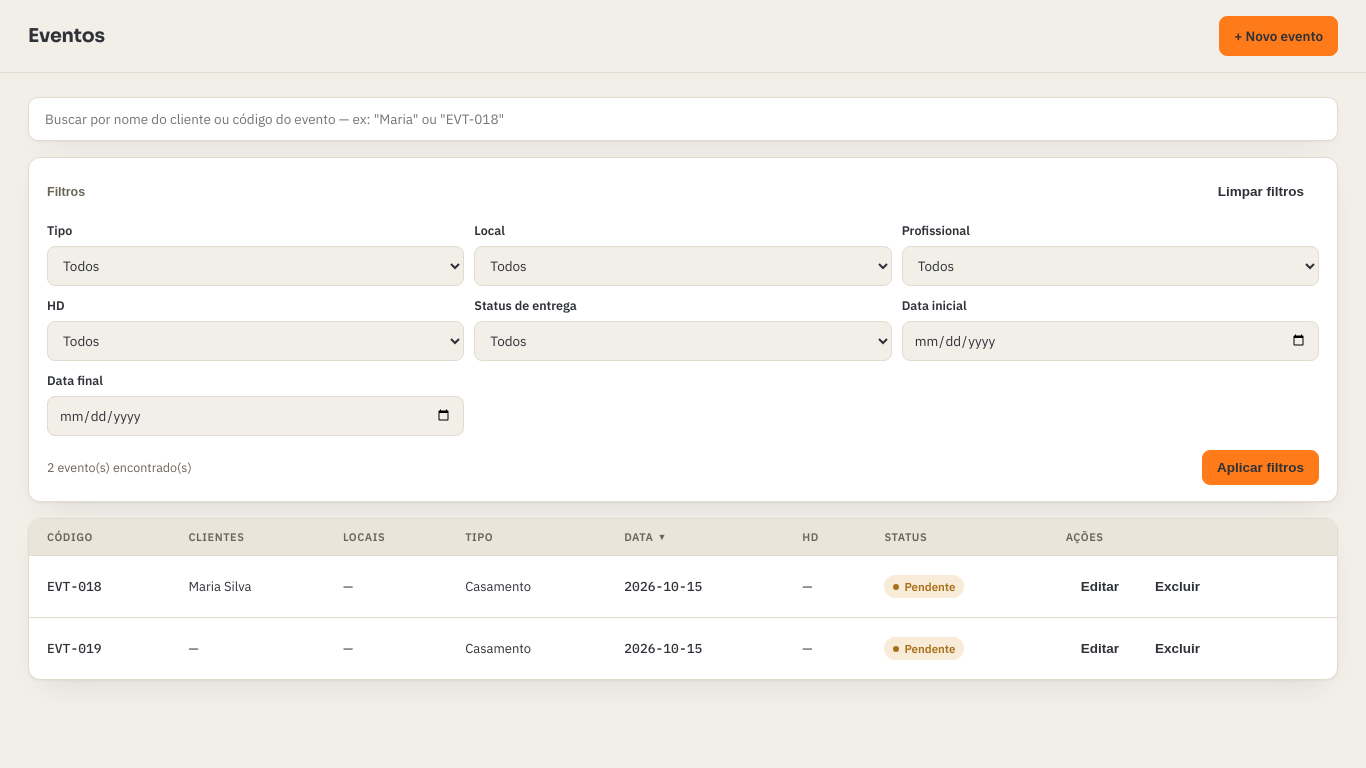
EventsPage › Excluir na lista pede confirmação, exclui e recarrega a página sem abrir o detalhe (GDE-64)
Click the button "Excluir" in the row of "EVT-018" at (1177, 586), box left=1140, top=569, right=1215, bottom=604
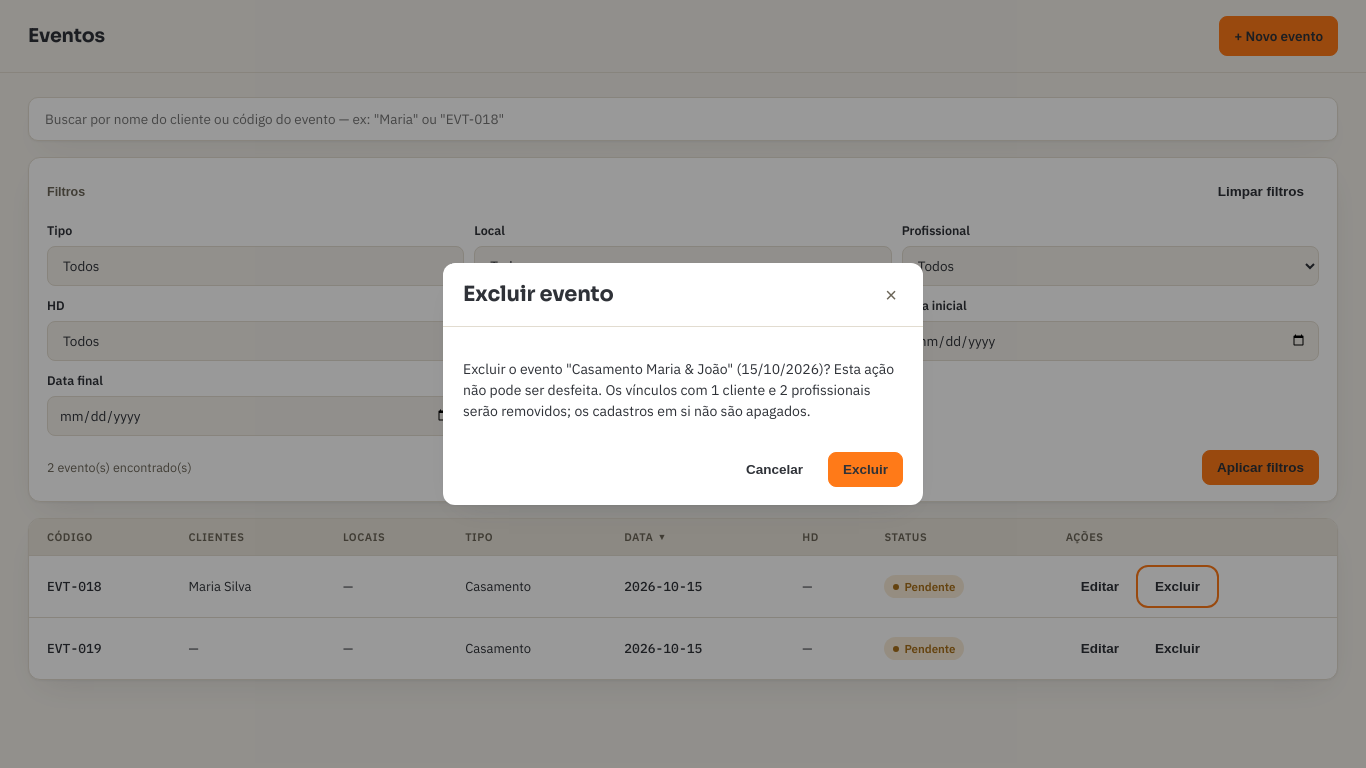
Now the text "vínculos com 1 cliente e 2 profissionais" is shown, box left=463, top=360, right=894, bottom=420
Click the button "Excluir" at (866, 470), box left=828, top=452, right=903, bottom=487
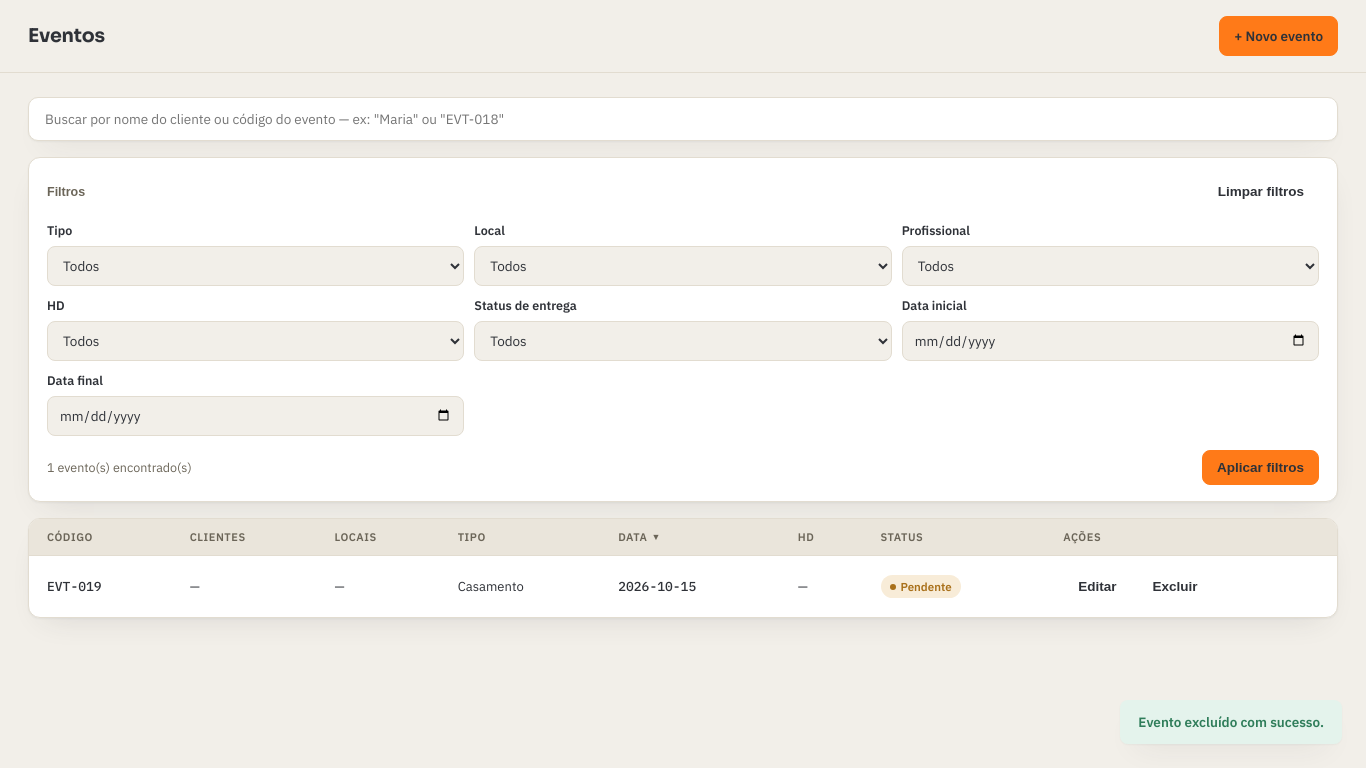
Expected: the text "EVT-019" is shown, left=47, top=578, right=102, bottom=595
Now the text "Evento excluído com sucesso." is shown, box left=1120, top=700, right=1342, bottom=744
